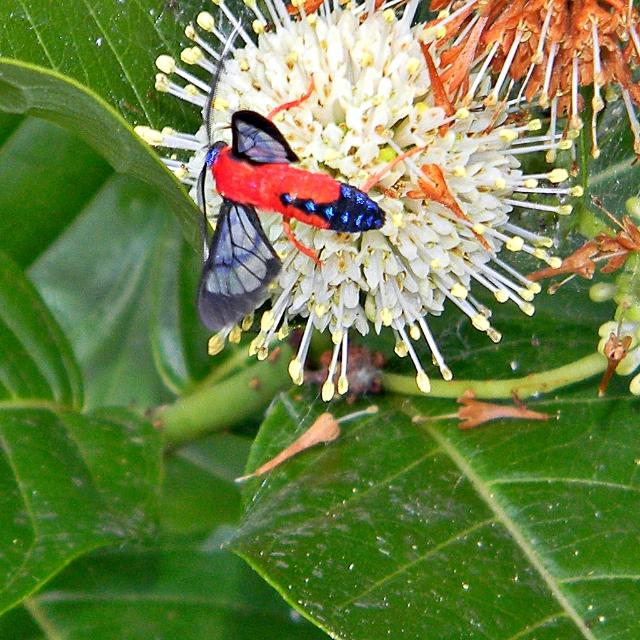Flower: (161, 29, 584, 467), (428, 0, 640, 164), (586, 194, 638, 393)
